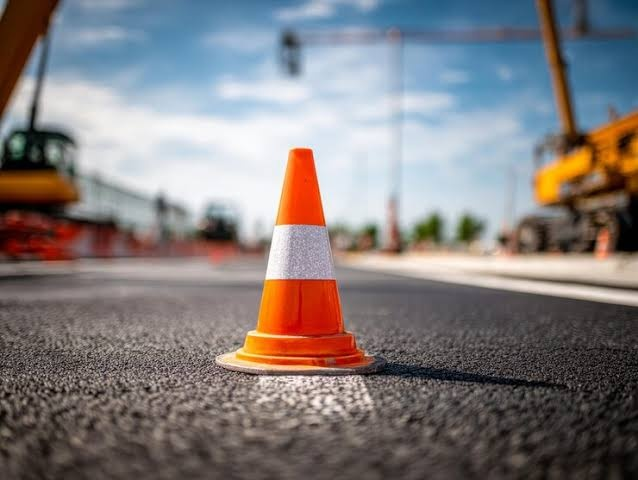machinery: (463, 13, 633, 269)
safety_cone: (221, 141, 386, 386)
